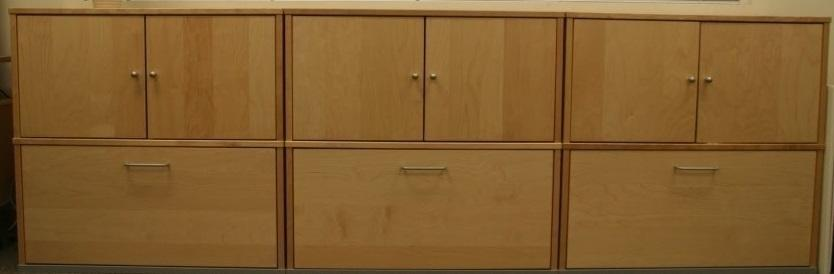cabinet_door: (27, 147, 283, 270), (292, 150, 554, 270), (572, 152, 821, 269), (425, 16, 566, 139), (289, 16, 426, 138), (563, 19, 697, 141), (145, 16, 279, 138), (15, 17, 142, 137), (699, 26, 820, 144)
handle: (393, 163, 458, 177), (667, 163, 727, 175), (686, 76, 699, 86), (701, 76, 715, 85), (127, 72, 141, 81), (409, 73, 422, 82), (147, 71, 159, 80), (429, 73, 439, 82)
